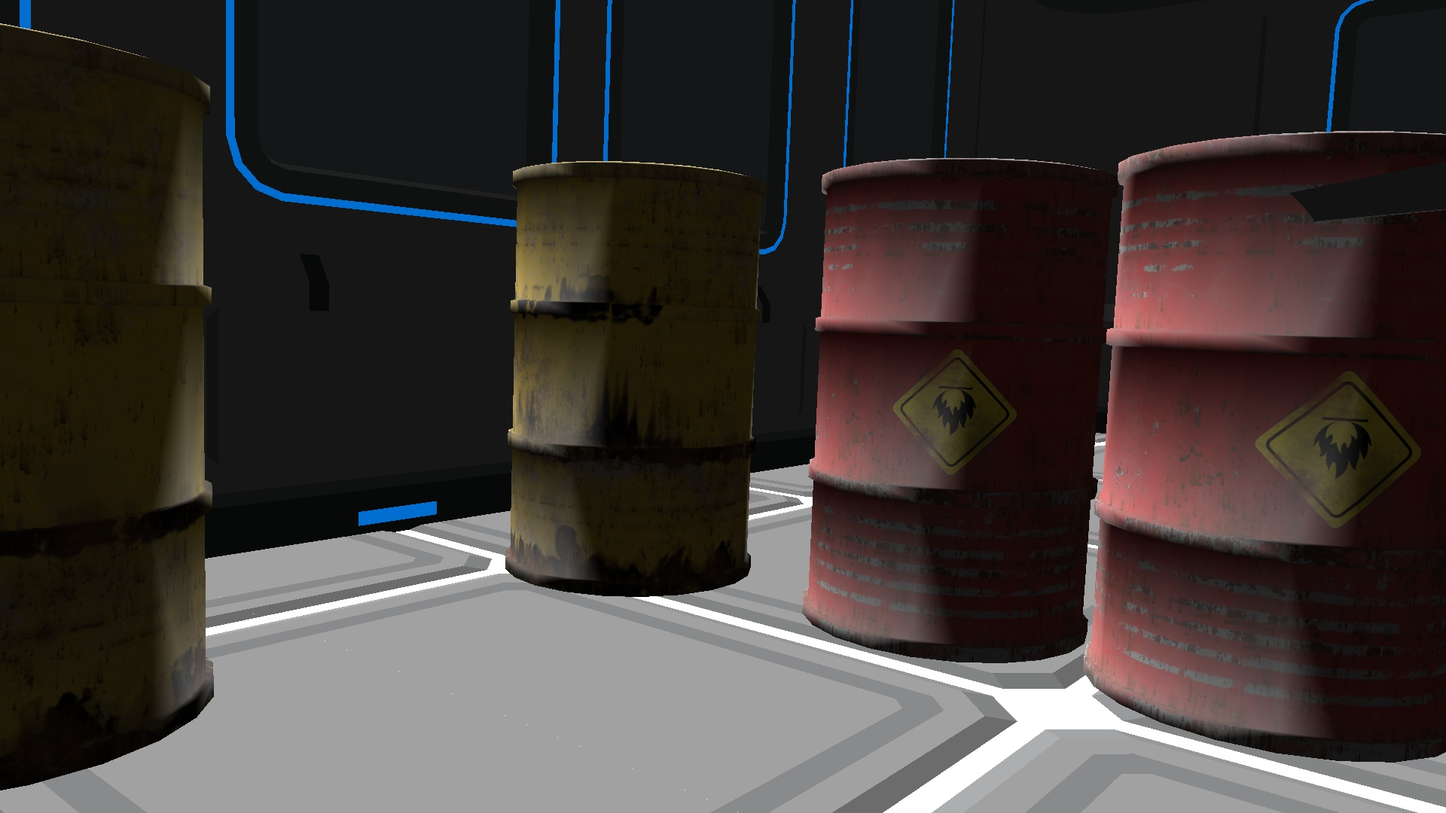toxic barrel: (1085, 133, 1446, 762), (0, 22, 212, 789), (803, 156, 1118, 663), (505, 159, 749, 598)
